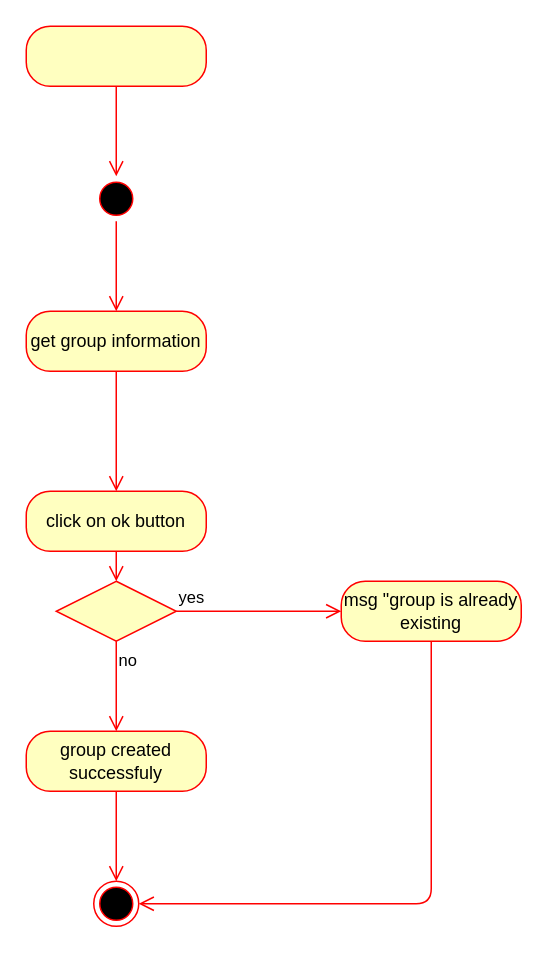
Image size: 548x953. Some labels were removed from this diagram. The box of each missing label's shape, as (x1, y1, x2, y2) in pixels:
click on add new fin group button: (25, 25, 206, 86)
Condition: (55, 580, 176, 641)
